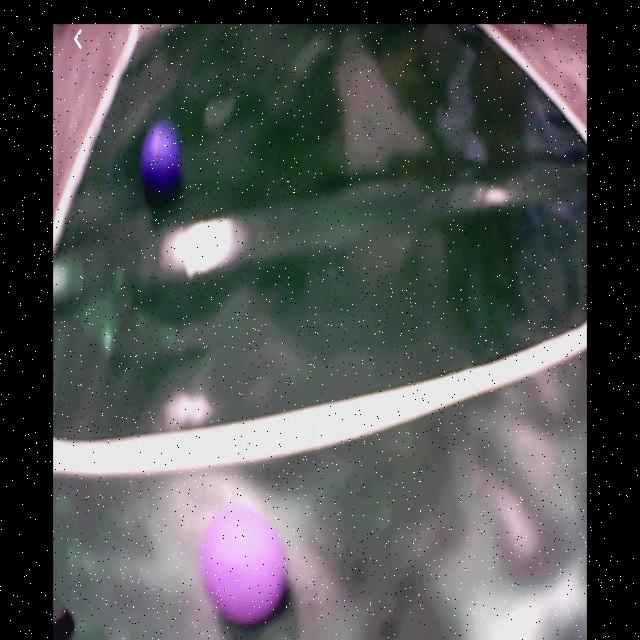ball: (203, 500, 288, 626), (141, 121, 183, 189)
